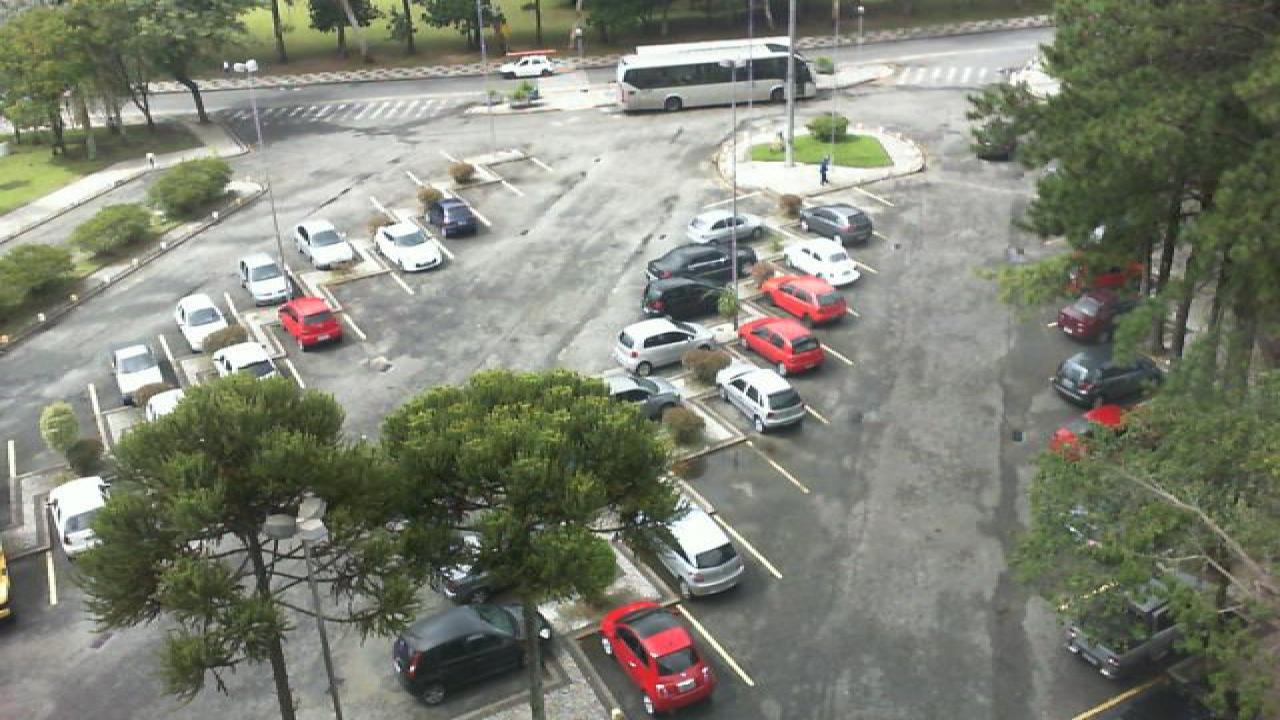Car: (390, 606, 532, 706), (598, 600, 716, 718), (1058, 596, 1196, 686), (652, 507, 746, 598), (716, 364, 806, 436), (1050, 353, 1156, 411), (1050, 282, 1146, 344), (736, 314, 826, 376), (1050, 399, 1144, 458), (48, 474, 116, 554), (614, 317, 702, 376), (644, 240, 760, 284), (758, 274, 848, 329), (640, 278, 742, 322), (368, 220, 444, 274), (602, 372, 682, 423), (782, 237, 862, 287), (276, 296, 344, 352), (174, 293, 238, 352), (292, 218, 364, 270), (112, 343, 172, 404), (238, 254, 302, 308), (800, 202, 874, 246), (210, 340, 282, 384), (686, 208, 770, 243), (422, 194, 480, 238), (144, 388, 206, 428)
